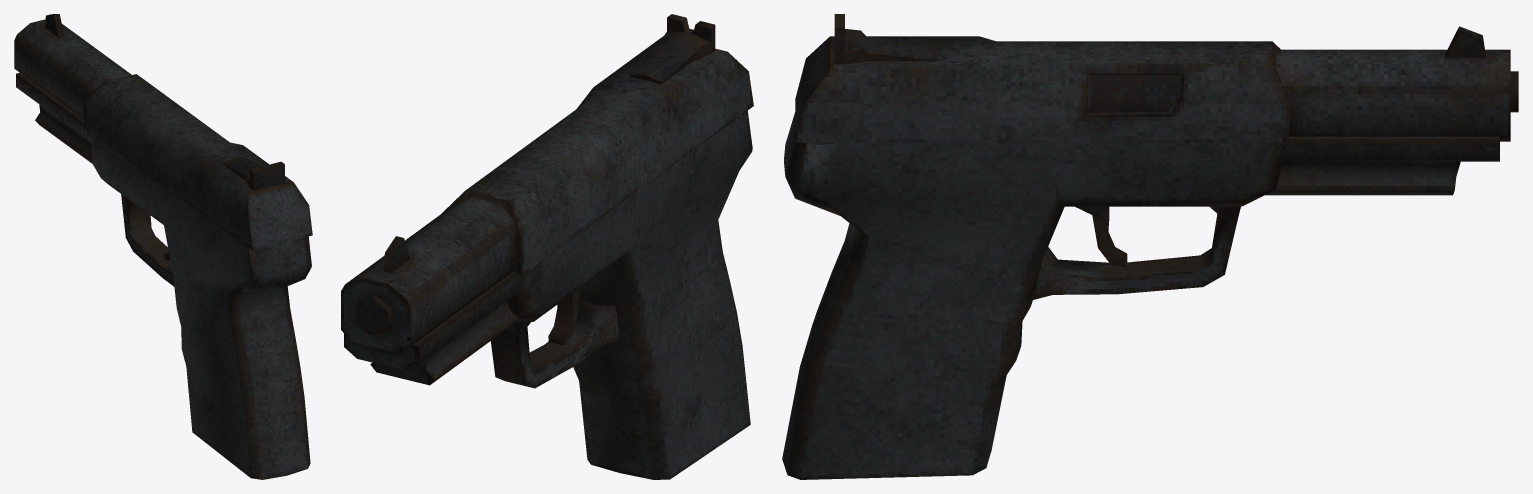
The model's file is Five_Seven_pistol.glb.
3 views of the same model, side by side, from view 1: azimuth 30°, elevation 25°; view 2: azimuth 150°, elevation 25°; view 3: azimuth 270°, elevation 25° (orthographic). The views are drawn at different scales.
Visible parts, largest first — view 1: Five Seven.001; view 2: Five Seven.001; view 3: Five Seven.001.
Part boxes in pixels (<box>): Five Seven.001: <box>14,14,312,479</box>; Five Seven.001: <box>341,14,753,479</box>; Five Seven.001: <box>782,14,1518,479</box>.
Size of the model in its own units: 0.3851 by 1.79 by 2.75.
2 materials, 2 textured.
